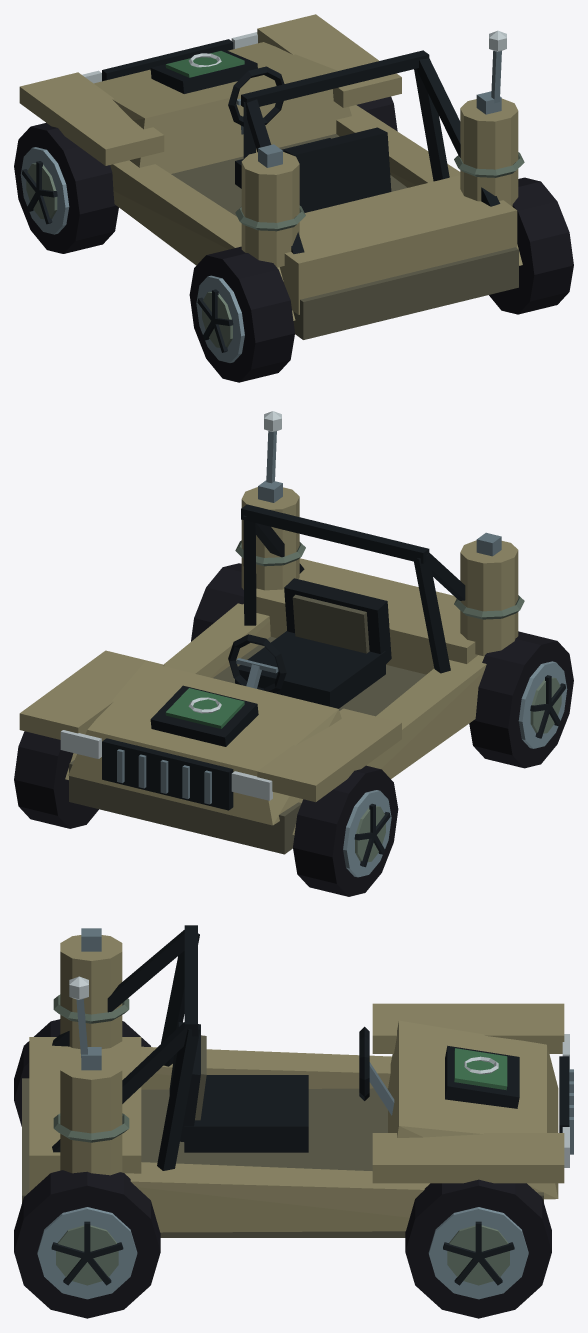
The model's file is kart.glb.
3 views of the same model, one above another, from view 1: azimuth 30°, elevation 25°; view 2: azimuth 150°, elevation 25°; view 3: azimuth 270°, elevation 25° (orthographic). The views are drawn at different scales.
Parts seen in each view (by area): view 1: identity-jeep-jeep-offroad-frame, identity-jeep-motif-tanks, wheel-rear-left, wheel-front-left, identity-jeep-driver-cockpit, wheel-rear-right, identity-jeep-motif-scanner, identity-jeep-motif-antenna, wheel-front-right; view 2: identity-jeep-jeep-offroad-frame, identity-jeep-driver-cockpit, wheel-rear-left, wheel-front-left, identity-jeep-motif-tanks, wheel-front-right, identity-jeep-motif-scanner, wheel-rear-right, identity-jeep-motif-antenna; view 3: identity-jeep-jeep-offroad-frame, wheel-rear-right, wheel-front-right, identity-jeep-motif-tanks, identity-jeep-driver-cockpit, identity-jeep-motif-scanner, wheel-rear-left, identity-jeep-motif-antenna.
Boxes of the visible parts, x1,y1,x2,y2 form: identity-jeep-jeep-offroad-frame: [19, 14, 522, 339]; identity-jeep-motif-tanks: [235, 91, 524, 267]; wheel-rear-left: [189, 246, 294, 382]; wheel-front-left: [14, 123, 118, 253]; identity-jeep-driver-cockpit: [228, 66, 391, 212]; wheel-rear-right: [489, 177, 573, 314]; identity-jeep-motif-scanner: [150, 49, 257, 93]; identity-jeep-motif-antenna: [489, 30, 506, 103]; wheel-front-right: [357, 96, 397, 131]; identity-jeep-jeep-offroad-frame: [19, 504, 486, 854]; identity-jeep-driver-cockpit: [228, 578, 391, 708]; wheel-rear-left: [469, 631, 573, 768]; wheel-front-left: [293, 765, 398, 896]; identity-jeep-motif-tanks: [235, 480, 524, 656]; wheel-front-right: [14, 731, 98, 828]; identity-jeep-motif-scanner: [150, 685, 258, 746]; wheel-rear-right: [191, 563, 243, 641]; identity-jeep-motif-antenna: [264, 411, 281, 483]; identity-jeep-jeep-offroad-frame: [22, 925, 573, 1237]; wheel-rear-right: [14, 1170, 160, 1318]; wheel-front-right: [405, 1179, 551, 1318]; identity-jeep-motif-tanks: [53, 928, 129, 1175]; identity-jeep-driver-cockpit: [169, 1022, 394, 1152]; identity-jeep-motif-scanner: [445, 1045, 519, 1108]; wheel-rear-left: [14, 1019, 150, 1126]; identity-jeep-motif-antenna: [69, 976, 88, 1057].
Size of the model in its own units: 2.13 by 1.72 by 2.75.
